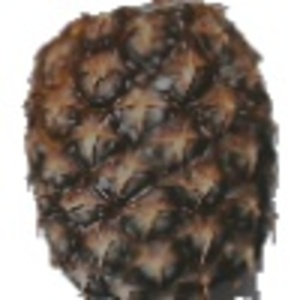abacaxi: (14, 1, 281, 300)
